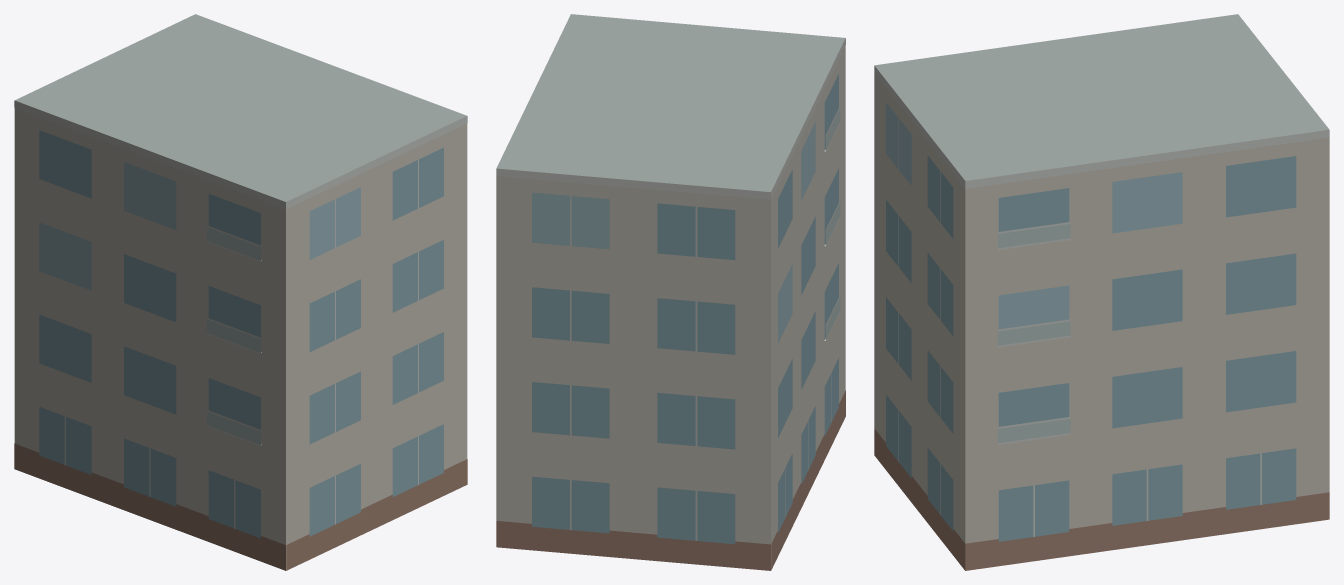
File: residential-0fddb253-6e49-443a-92f8-4b57cc3e622d.glb
3 renders of one model, left to right at view 1: azimuth 30°, elevation 25°; view 2: azimuth 150°, elevation 25°; view 3: azimuth 270°, elevation 25°, orthographic. The views are drawn at different scales.
Parts seen in each view (by area): view 1: residential-0fddb253-6e49-443a-92f8-4b57cc3e622d.tmp; view 2: residential-0fddb253-6e49-443a-92f8-4b57cc3e622d.tmp; view 3: residential-0fddb253-6e49-443a-92f8-4b57cc3e622d.tmp.
Part boxes in pixels (box(x1,y1,x2,y2)): residential-0fddb253-6e49-443a-92f8-4b57cc3e622d.tmp: box(14, 14, 467, 570); residential-0fddb253-6e49-443a-92f8-4b57cc3e622d.tmp: box(496, 14, 845, 570); residential-0fddb253-6e49-443a-92f8-4b57cc3e622d.tmp: box(874, 14, 1329, 570).
Size of the model in its own units: 11.22 by 12.2 by 12.92.
